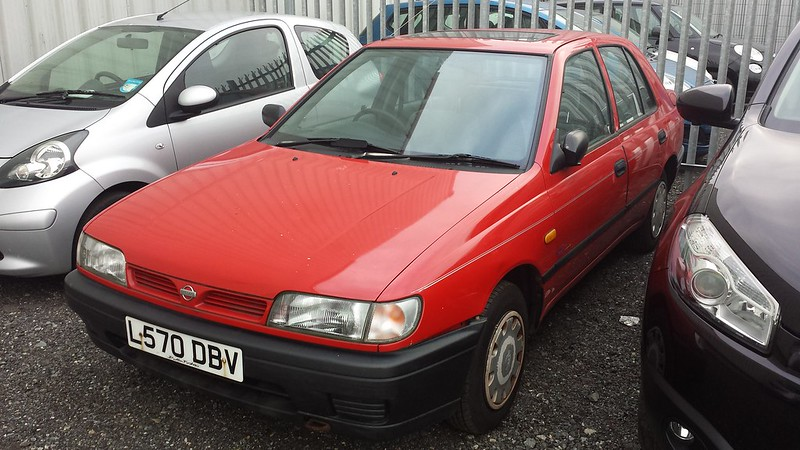number_plate: (112, 312, 265, 390)
